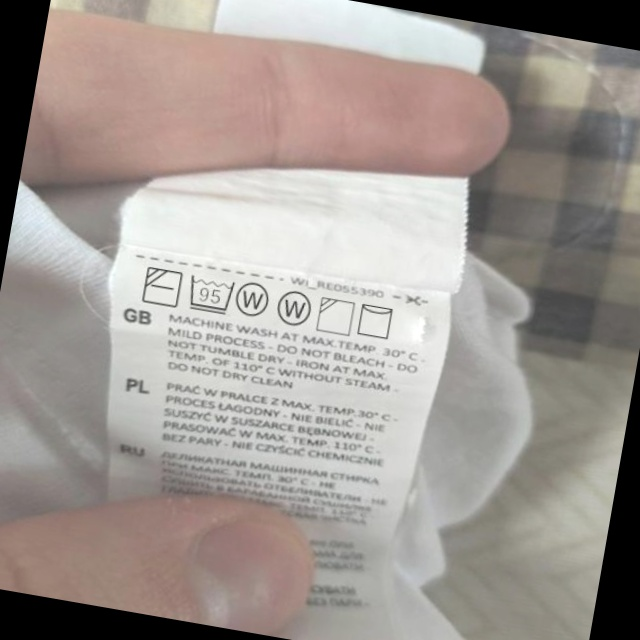95C: (184, 271, 238, 317)
dry_flat_in_shade: (139, 262, 185, 310)
line_dry: (354, 299, 399, 343)
shade_dry: (314, 294, 358, 339)
wet_clean: (273, 287, 316, 331), (234, 276, 275, 321)
